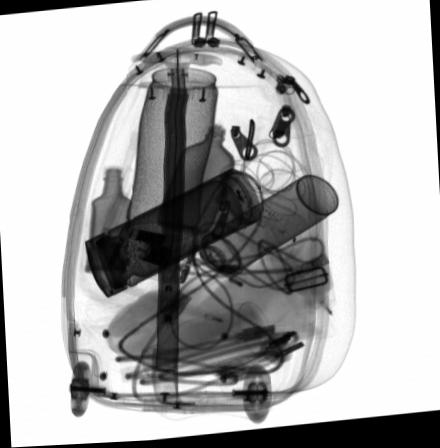Sprayer: (178, 177, 340, 291)
